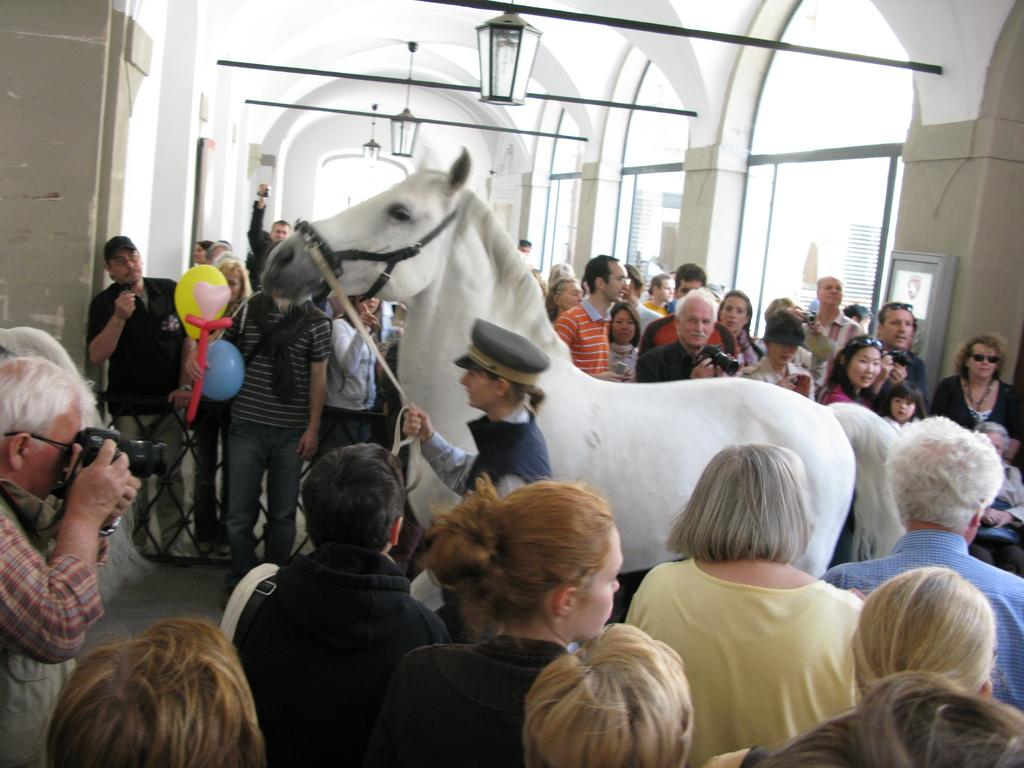Sem Máscara: (569, 533, 623, 638), (26, 406, 81, 495), (680, 296, 712, 349), (849, 342, 881, 387), (459, 371, 497, 404), (110, 249, 140, 283), (968, 343, 994, 378), (605, 259, 626, 302), (721, 294, 743, 331), (610, 307, 632, 342), (219, 271, 242, 303), (887, 312, 910, 344), (675, 277, 706, 300), (891, 395, 914, 420), (819, 279, 841, 303), (557, 284, 580, 306), (772, 343, 794, 362), (359, 295, 376, 315), (657, 280, 671, 302), (206, 241, 225, 257), (621, 278, 634, 299), (987, 433, 999, 454), (193, 243, 205, 263), (521, 243, 528, 255)
